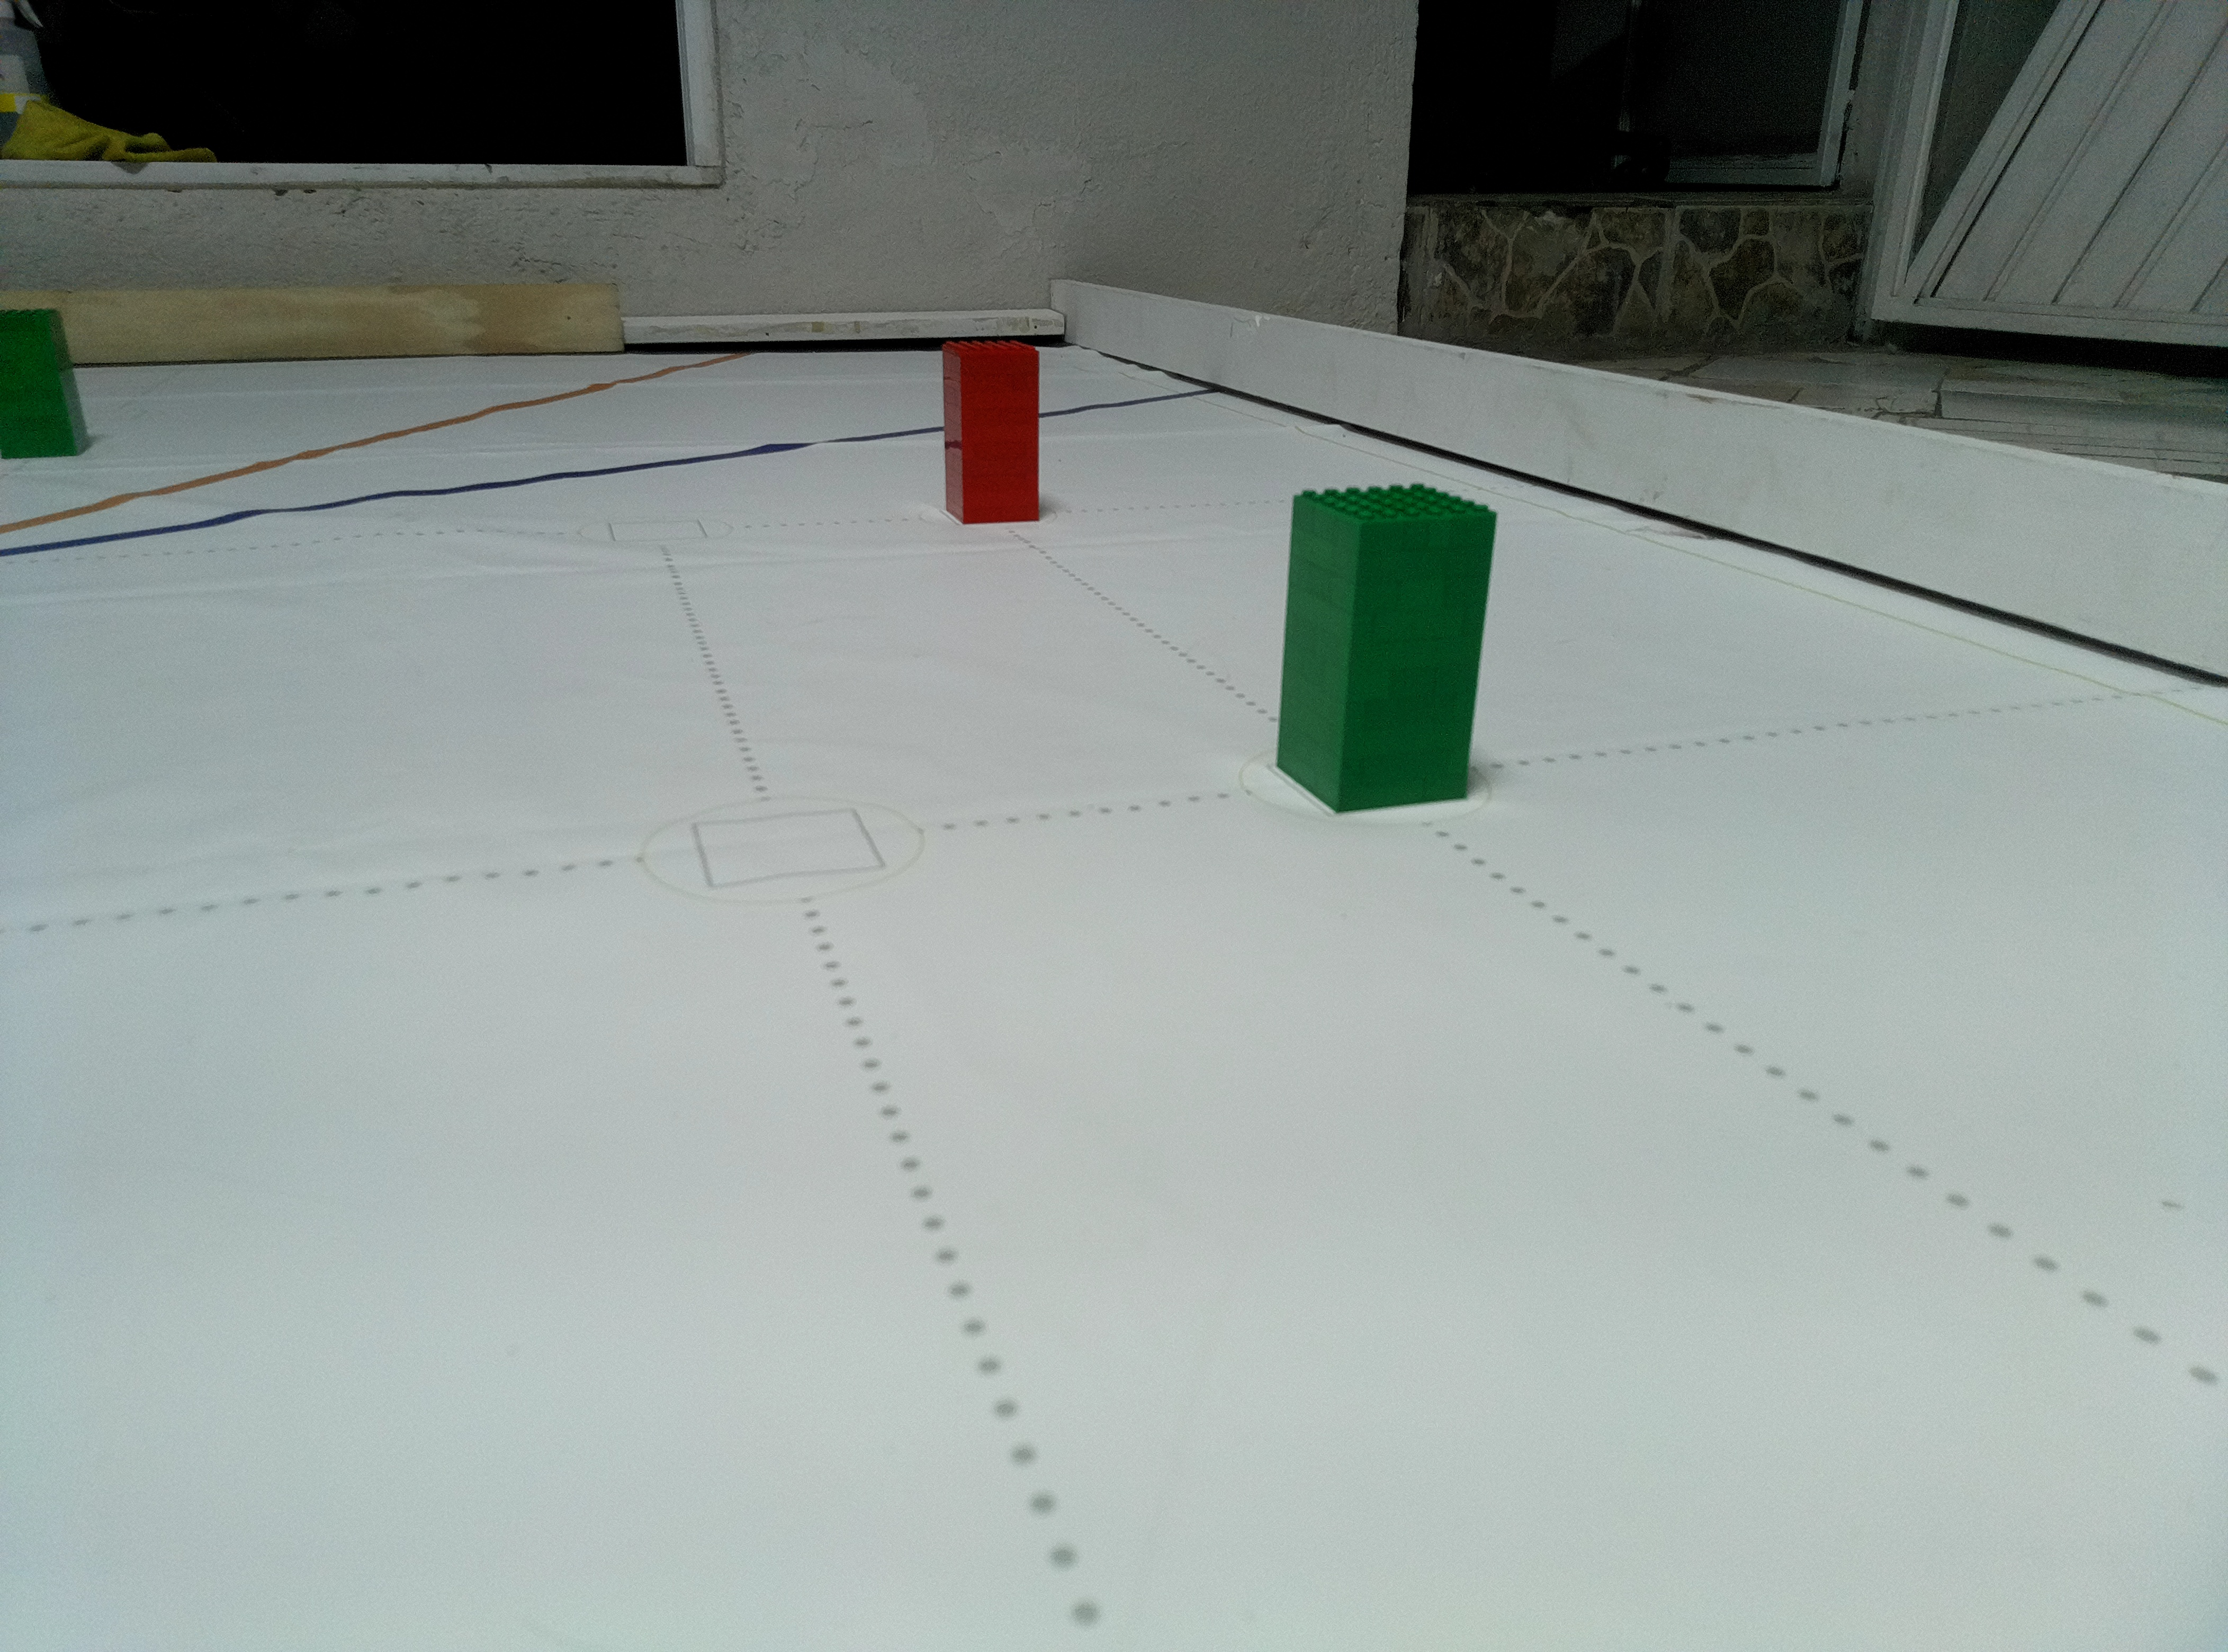greenbox: (1270, 470, 1508, 823), (0, 307, 94, 462)
redbox: (940, 340, 1043, 528)
